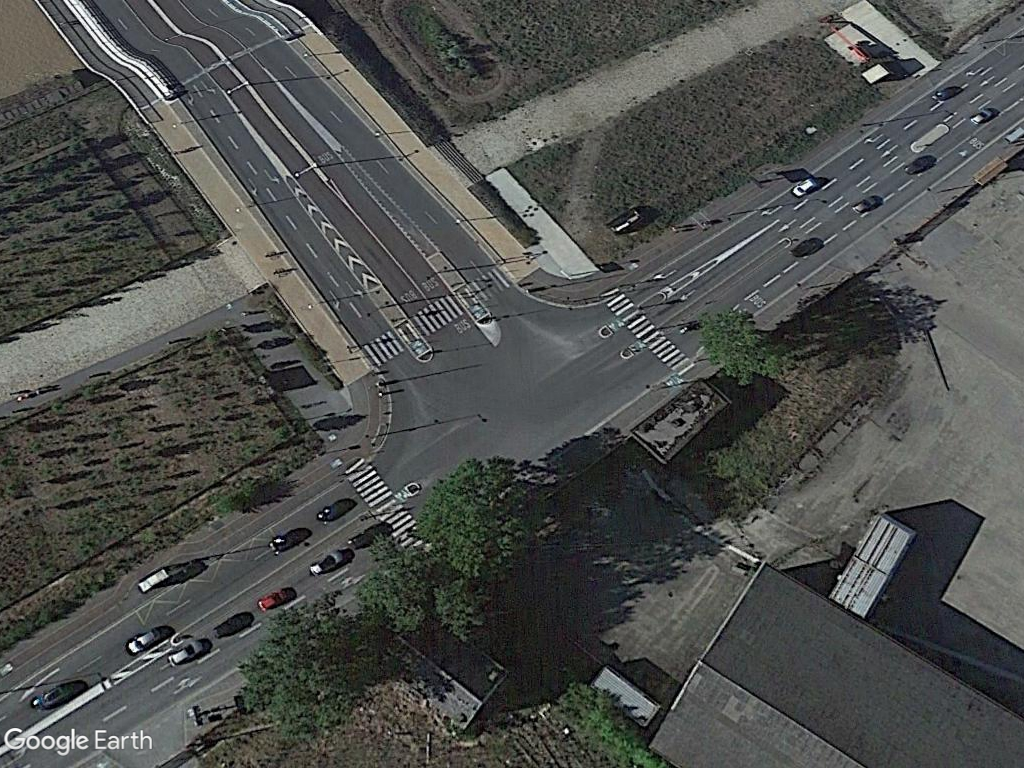car: (304, 544, 352, 580), (254, 584, 300, 613), (124, 622, 160, 657), (847, 192, 886, 216)
